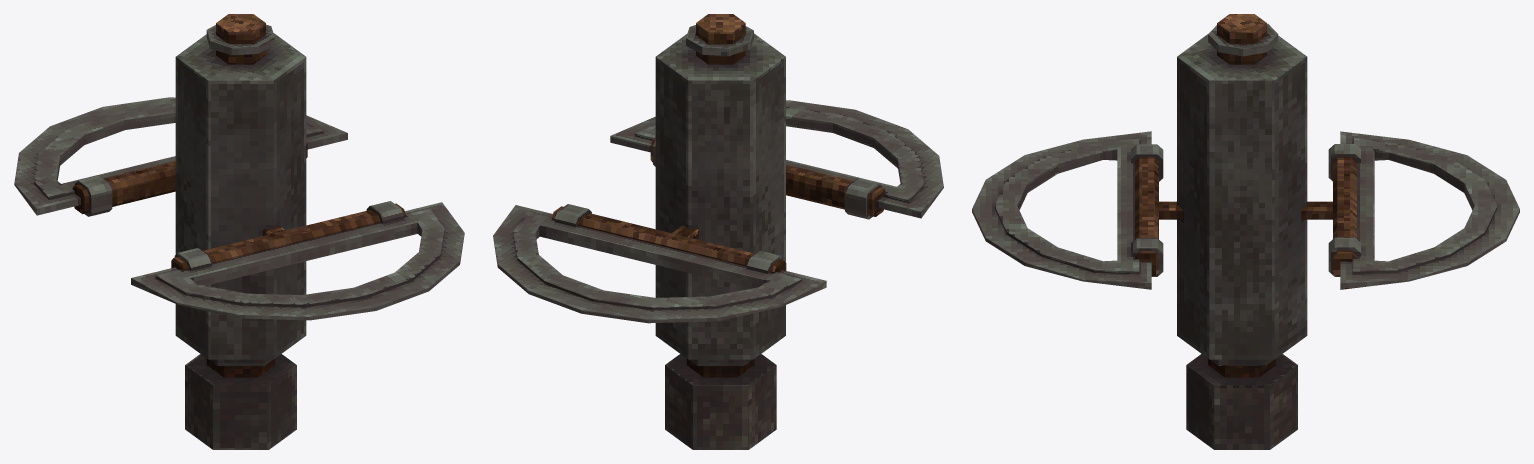
Rendered from blades-rotating.glb.
The picture shows the model from 3 angles, left to right: view 1: azimuth 30°, elevation 25°; view 2: azimuth 150°, elevation 25°; view 3: azimuth 270°, elevation 25°; orthographic projection.
Parts seen in each view (by area): view 1: Blades_Rotating; view 2: Blades_Rotating; view 3: Blades_Rotating.
Boxes of the visible parts, left/top/right/bottom form: Blades_Rotating: left=14, top=14, right=464, bottom=449; Blades_Rotating: left=493, top=14, right=943, bottom=449; Blades_Rotating: left=972, top=14, right=1519, bottom=449.
Bounding box in the file's own units: 3.38 × 4.21 × 5.15.
Materials: 1 (1 with a texture image).
